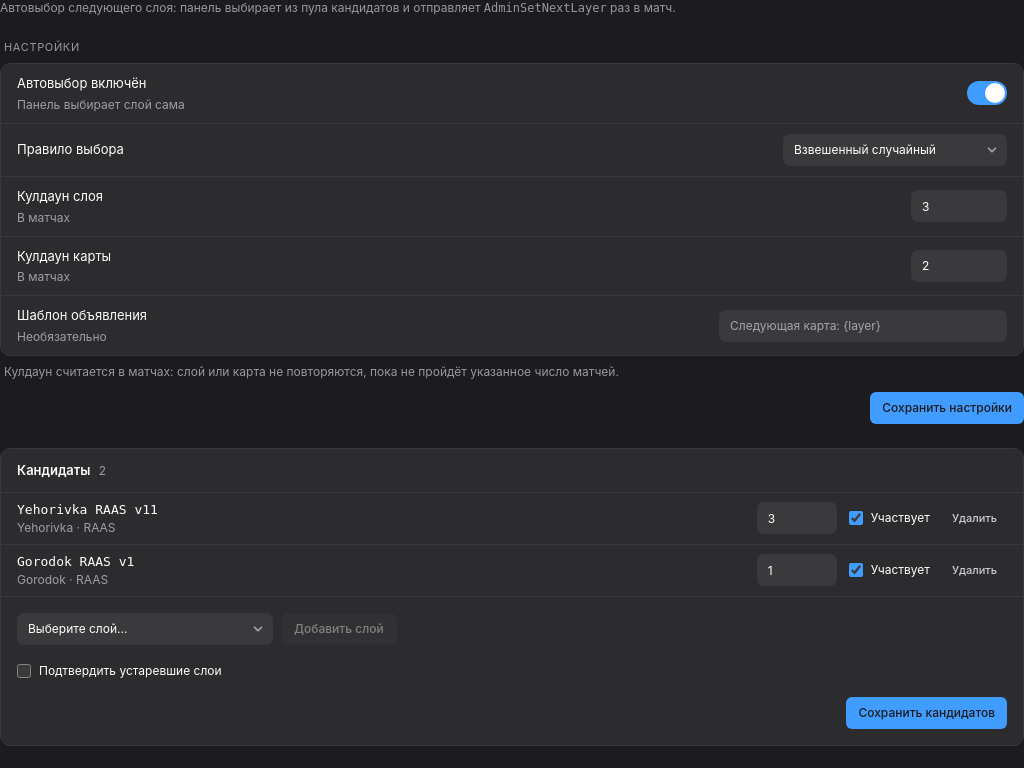
MapVotePage › shows validation error for weight out of range
Replace the text in the number field named "Вес Yehorivka RAAS v11" with "0" at (797, 518), box [757,502,837,534]
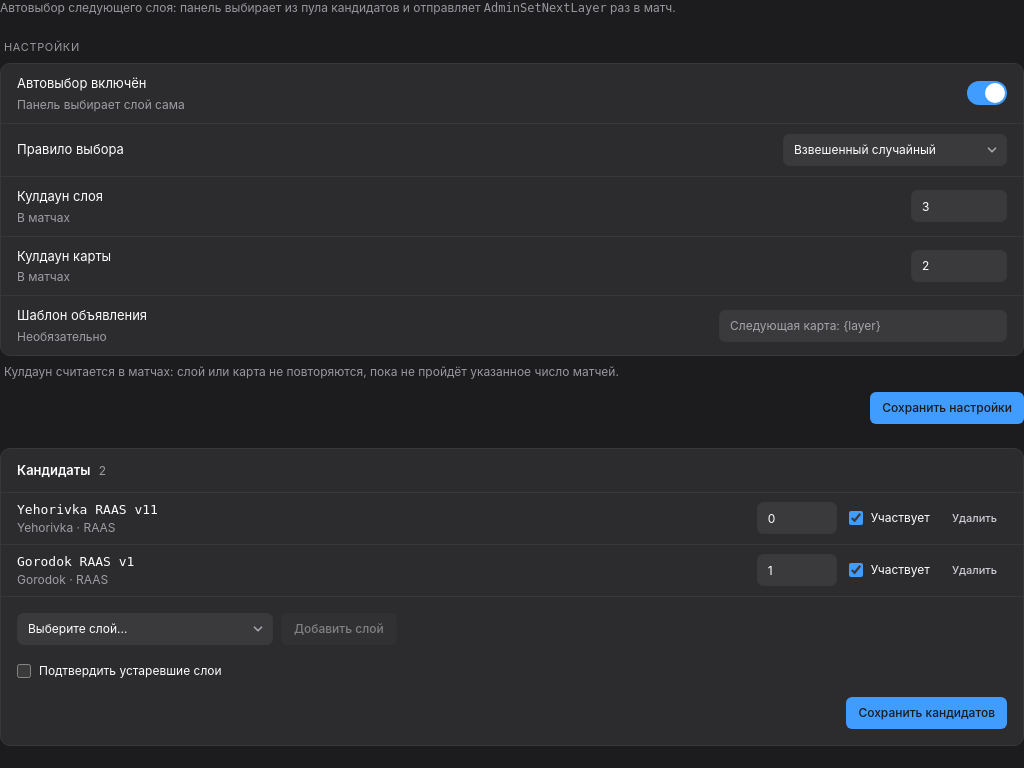
Click the button "Сохранить кандидатов".
click(927, 713)  # box [846,697,1007,729]
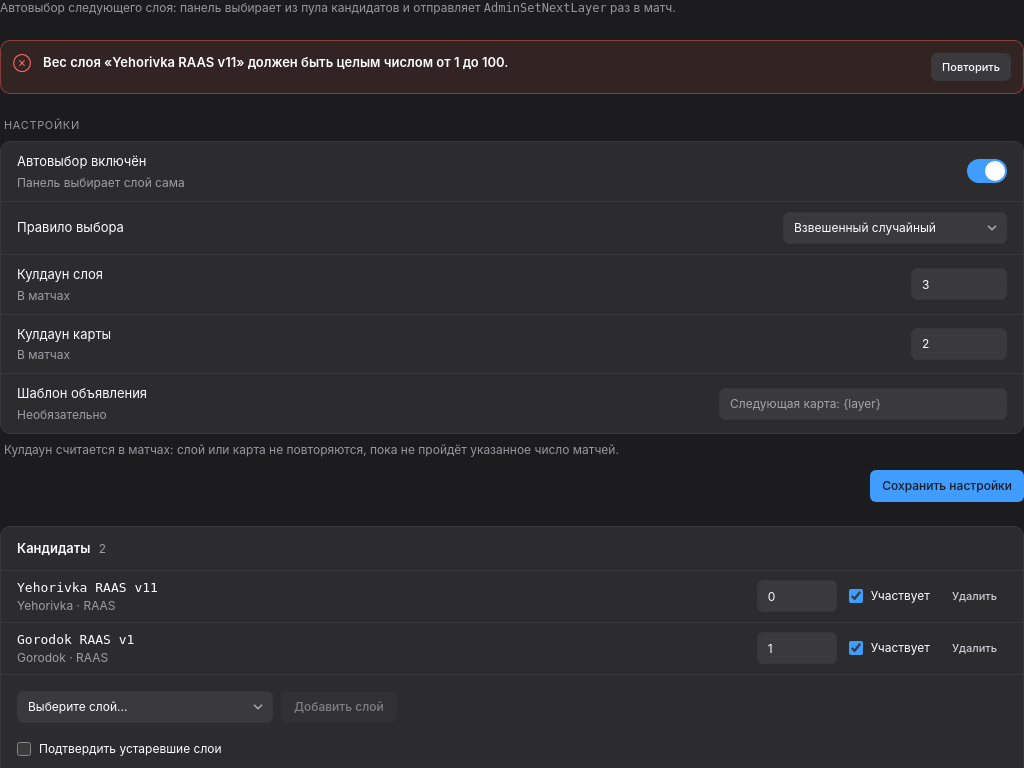
expect the text "от 1 до 100" is shown: met, box [43,54,508,70]
